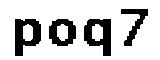7: (118, 5, 151, 49)
o: (47, 15, 77, 47)
p: (10, 16, 45, 60)
q: (81, 13, 113, 60)
